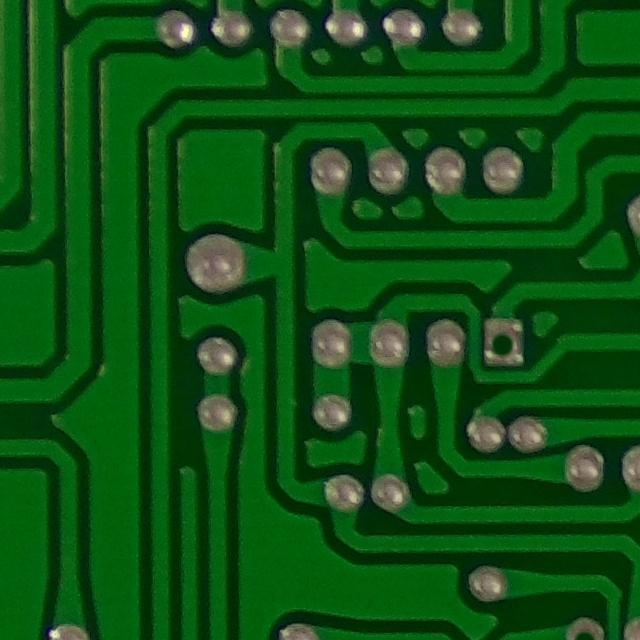missing_hole: (470, 309, 534, 375)
